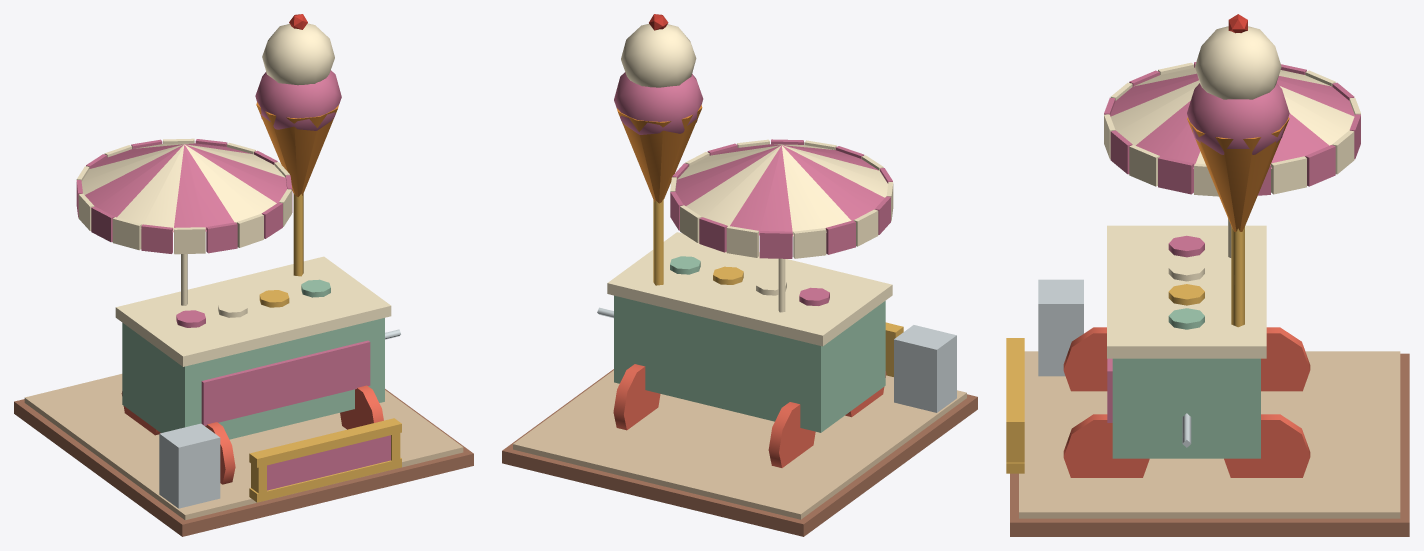
File: stall_icecream.glb
The picture shows the model from 3 angles, left to right: view 1: azimuth 30°, elevation 25°; view 2: azimuth 150°, elevation 25°; view 3: azimuth 270°, elevation 25°; orthographic projection. The views are drawn at different scales.
Parts seen in each view (by area): view 1: stall_icecream; view 2: stall_icecream; view 3: stall_icecream.
Part boxes in pixels (x1,y1,x2,y2): stall_icecream: [14, 14, 473, 536]; stall_icecream: [502, 14, 977, 536]; stall_icecream: [1006, 14, 1409, 536].
Size of the model in its own units: 3.5 by 4.59 by 3.53.
